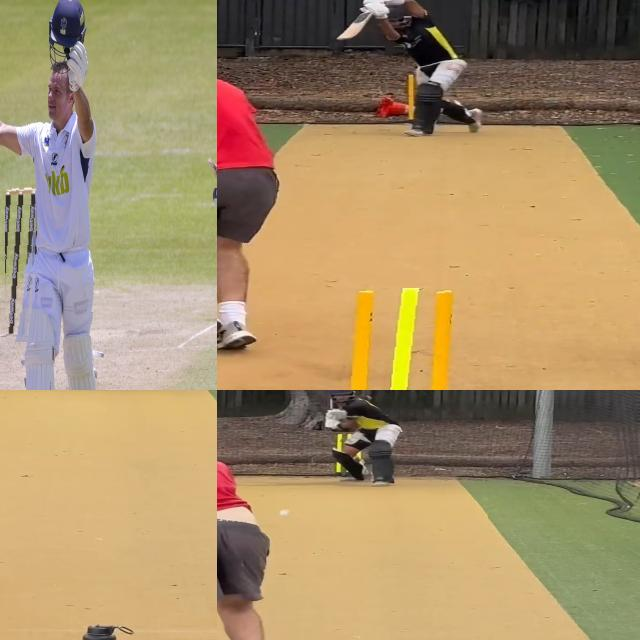Cricket ball: (277, 509, 291, 517)
Stumps: (343, 288, 471, 390), (5, 185, 40, 343)
